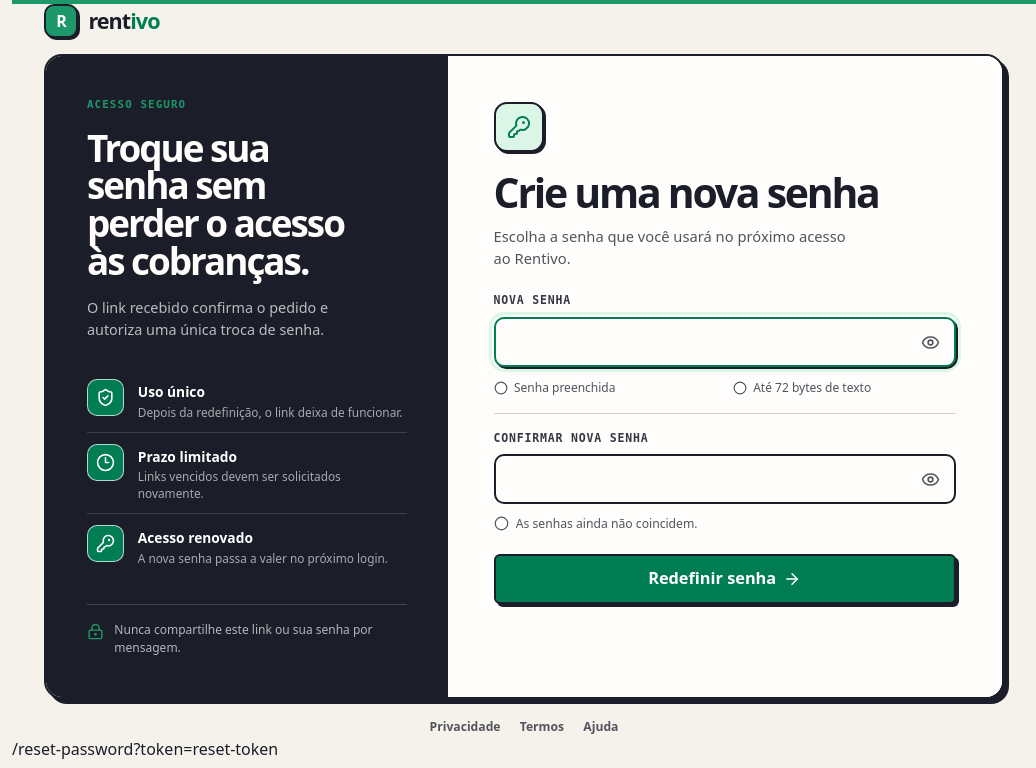
Test case: ResetPasswordPage › renders an accessible new-password form with live match guidance
Expected: the heading "Crie uma nova senha" is shown, [494,164,879,220]
Expected: the message named "Estado das senhas" reads "As senhas ainda não coincidem.", [516,515,698,532]
In the password field labelled "Nova senha": (725, 342) [494,317,956,367], type "new-password"
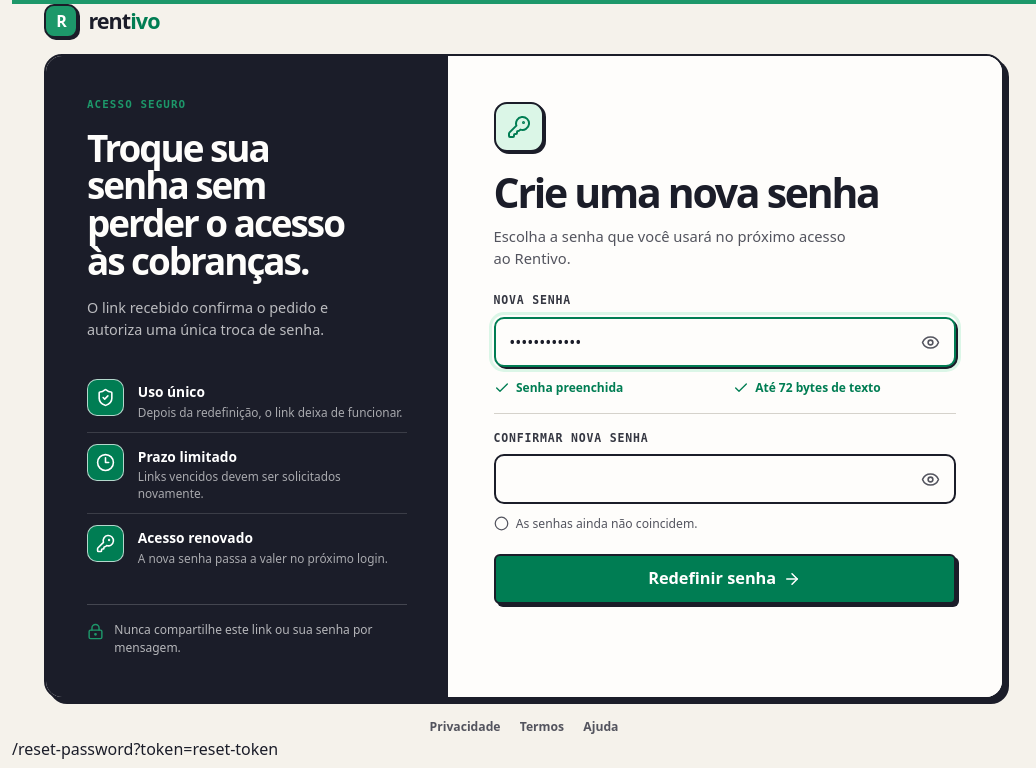
In the password field labelled "Confirmar nova senha": (725, 479) [494,454,956,504], type "new-password"
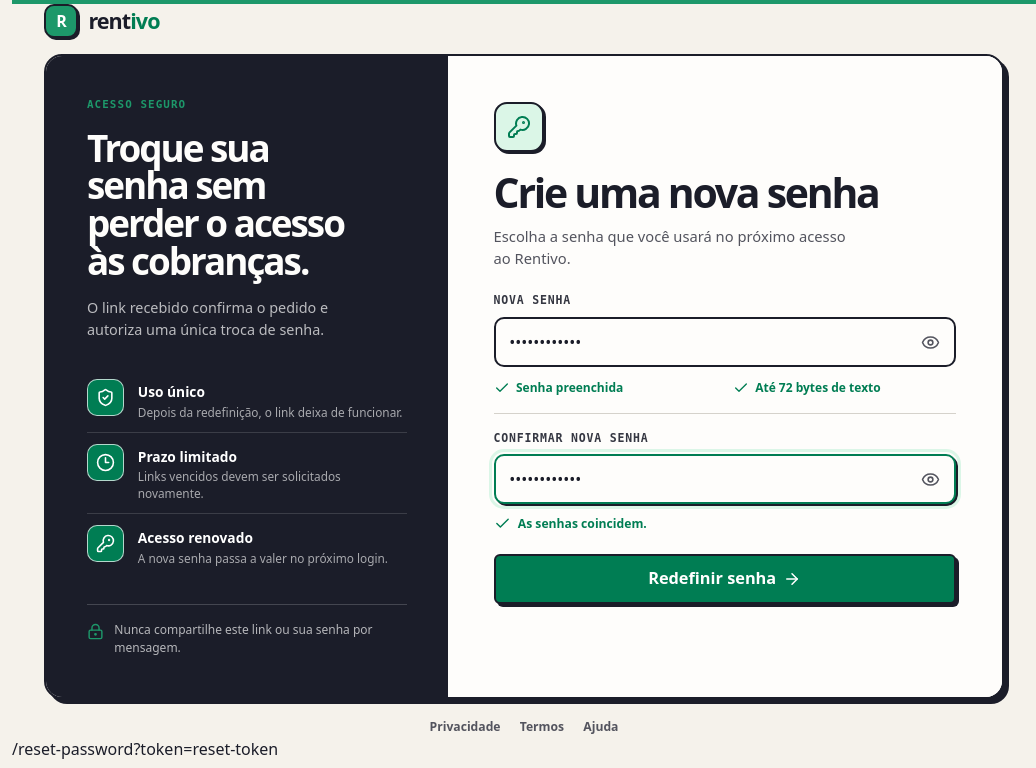
Expected: the message named "Estado das senhas" reads "As senhas coincidem.", [518,515,647,532]
